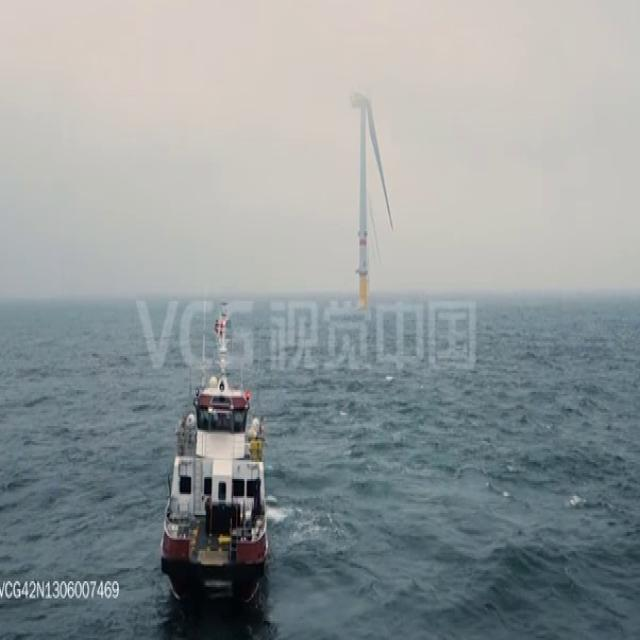houseboat: (160, 342, 271, 591)
